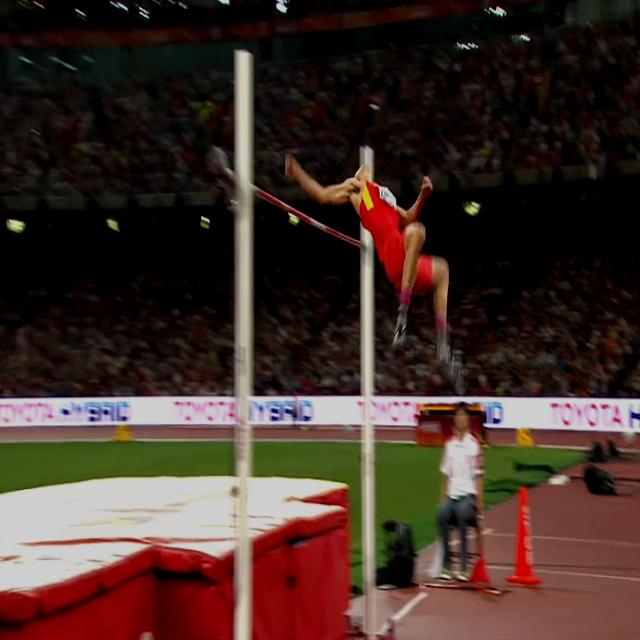jump: (284, 151, 464, 383)
